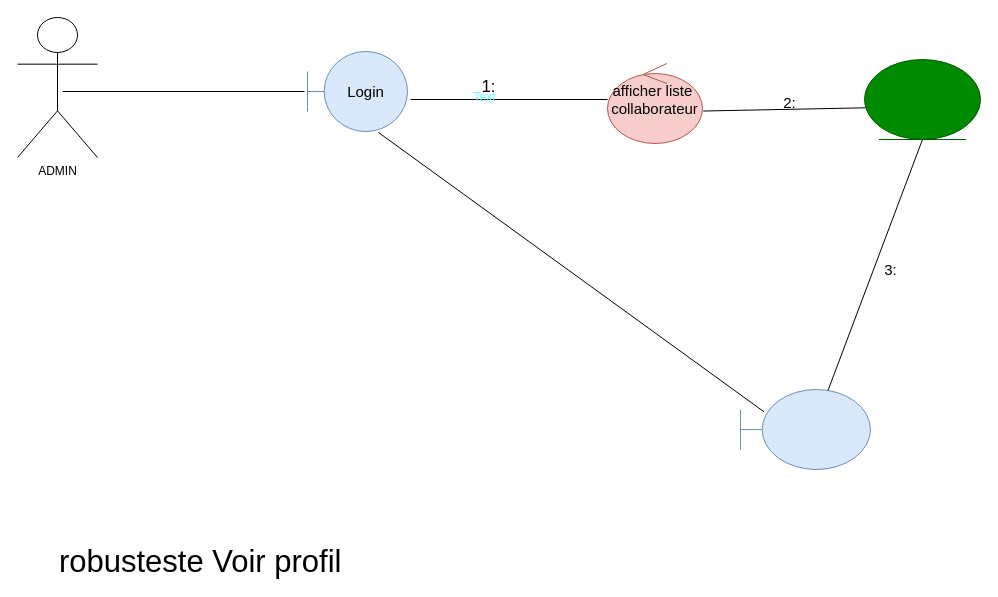
Image size: 998x597. Some labels were removed from this diagram. The shapes that lost their labels are listed below. From the top down, each one's centre as x and y in pixels, then its label:
At pixel 922 99: "table Collaborateur".
At pixel 805 429: "Profil Collaborateur".
